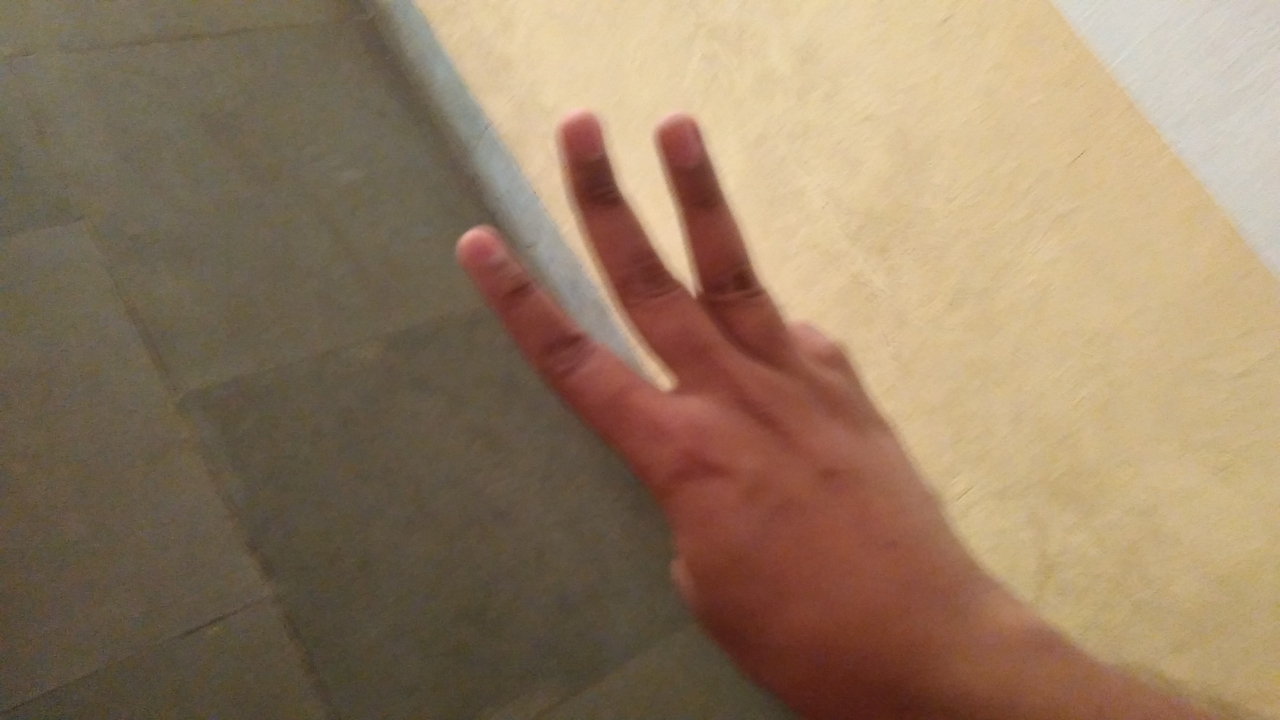fingertip: (444, 214, 508, 272), (648, 112, 712, 160), (552, 108, 610, 158)
